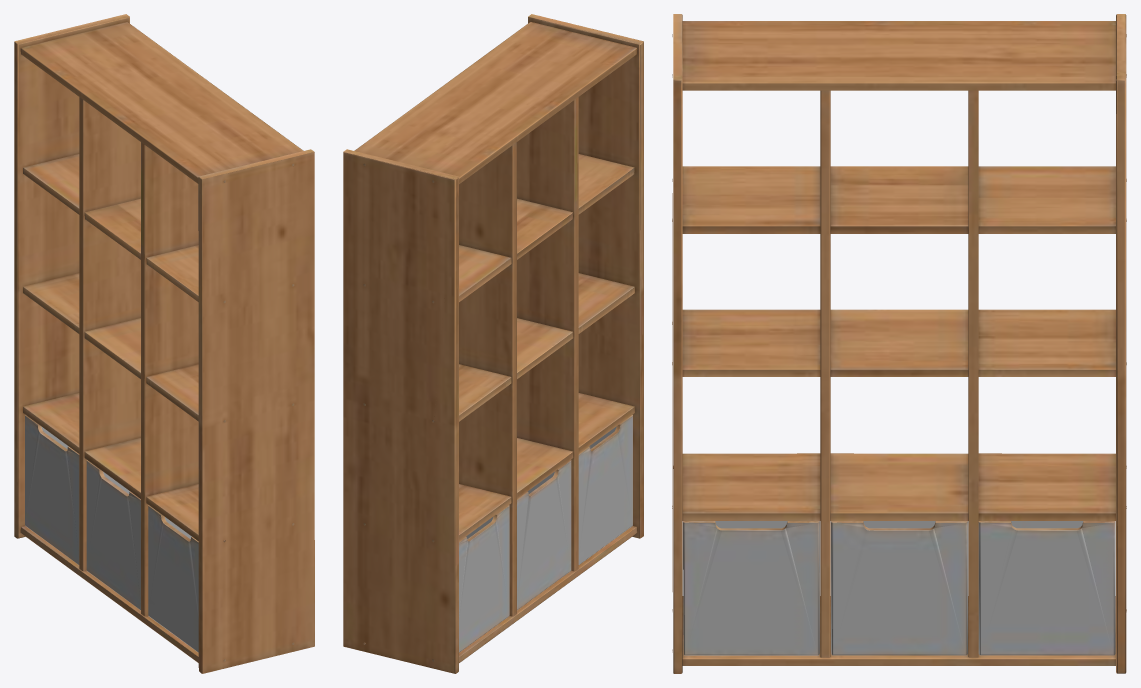
File: ph_wooden_display_shelves_01.glb
3 views of the same model, side by side, from view 1: azimuth 30°, elevation 25°; view 2: azimuth 150°, elevation 25°; view 3: azimuth 270°, elevation 25° (orthographic). The views are drawn at different scales.
Parts seen in each view (by area): view 1: wooden_display_shelves_01; view 2: wooden_display_shelves_01; view 3: wooden_display_shelves_01.
Boxes of the visible parts, <box> form: wooden_display_shelves_01: <box>14,14,314,673</box>; wooden_display_shelves_01: <box>343,14,643,673</box>; wooden_display_shelves_01: <box>672,14,1126,673</box>.
Size of the model in its own units: 0.3715 by 1.55 by 1.08.
Materials: 1 (1 with a texture image).
